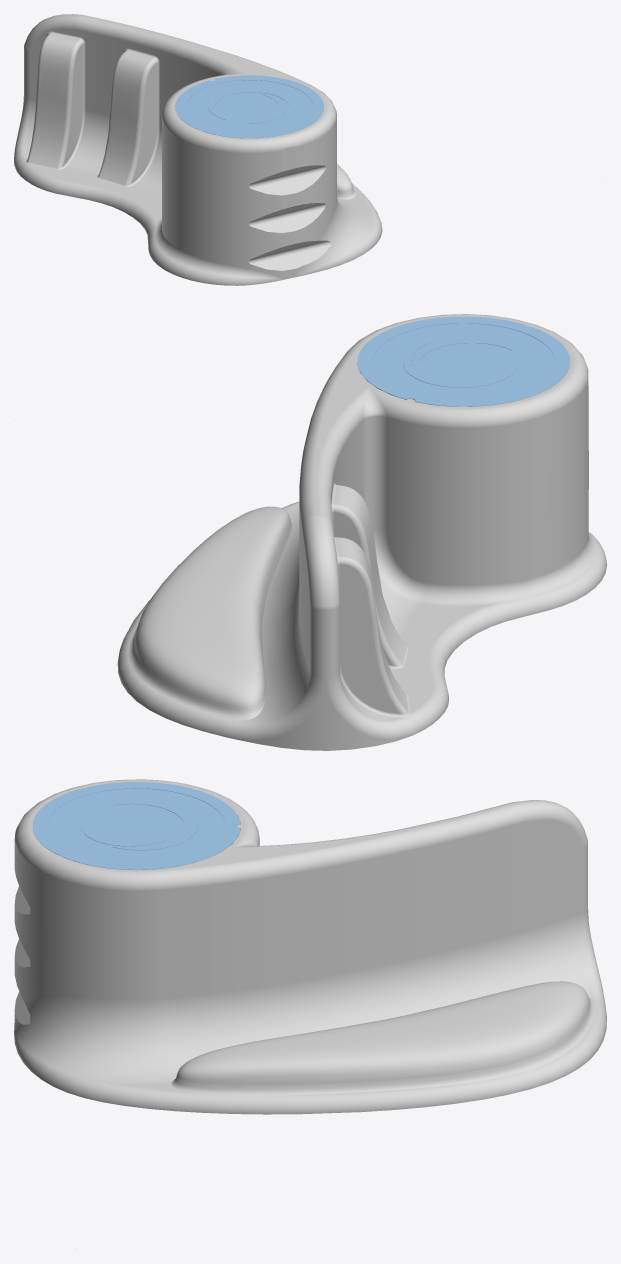
The model's file is front1.gltf.
The picture shows the model from 3 angles, top to bottom: view 1: azimuth 30°, elevation 25°; view 2: azimuth 150°, elevation 25°; view 3: azimuth 270°, elevation 25°; orthographic projection. The views are drawn at different scales.
Visible parts, largest first — view 1: Body10, Body16; view 2: Body10, Body16; view 3: Body10, Body16.
Boxes of the visible parts, <box> form: Body10: <box>14,14,382,285</box>; Body16: <box>175,75,323,138</box>; Body10: <box>117,314,606,750</box>; Body16: <box>357,316,570,406</box>; Body10: <box>14,779,606,1114</box>; Body16: <box>32,782,240,870</box>.
Size of the model in its own units: 230 by 70.12 by 194.
